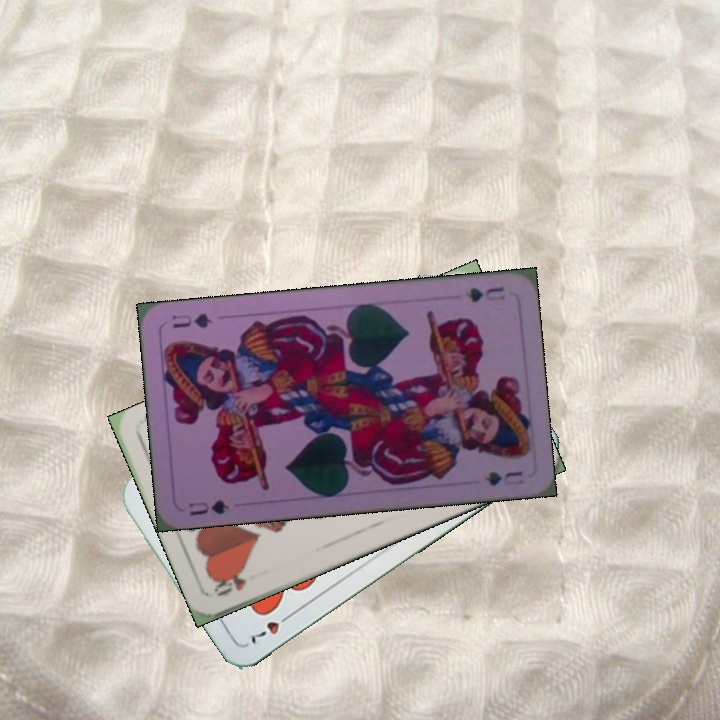GU: (185, 495, 232, 519), (461, 283, 508, 305)
H7: (246, 608, 296, 647)
HO: (209, 571, 249, 599)
